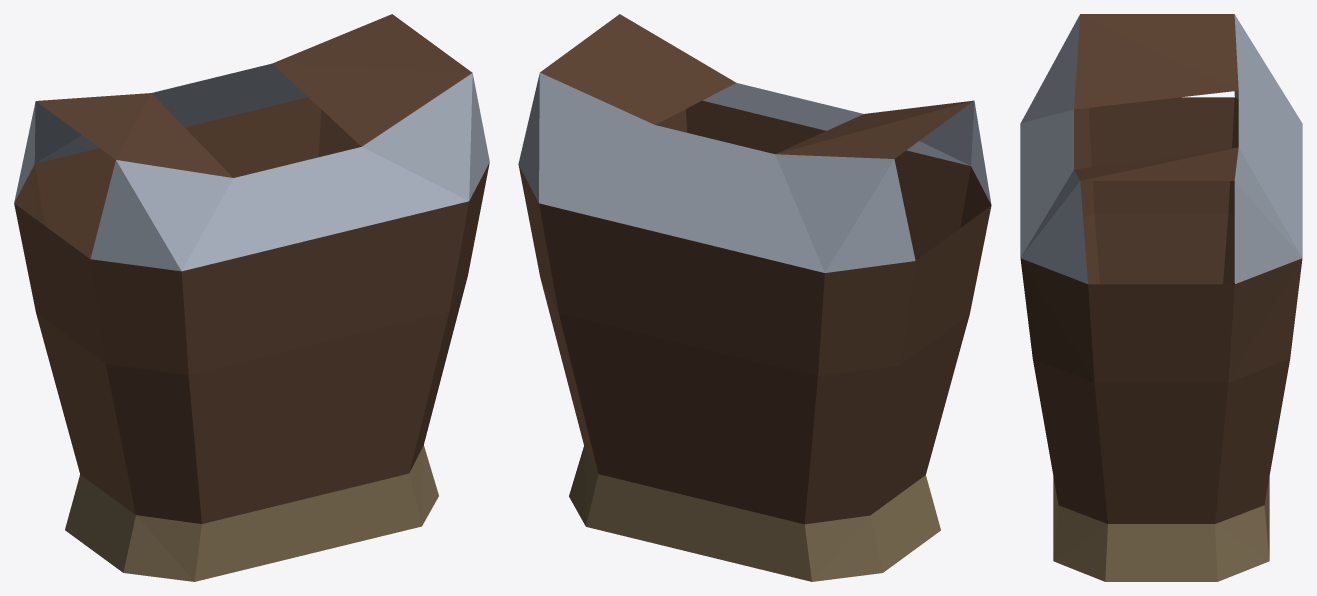
The model's file is Cuirass_Light.fbx.
3 renders of one model, left to right at view 1: azimuth 30°, elevation 25°; view 2: azimuth 150°, elevation 25°; view 3: azimuth 270°, elevation 25°, orthographic. The views are drawn at different scales.
Parts seen in each view (by area): view 1: 01_Cuirass_Light; view 2: 01_Cuirass_Light; view 3: 01_Cuirass_Light.
Boxes of the visible parts, x1,y1,x2,y2 form: 01_Cuirass_Light: (14,14,489,581); 01_Cuirass_Light: (518,14,991,581); 01_Cuirass_Light: (1020,14,1302,581).
Size of the model in its own units: 43 by 44 by 27.4.
